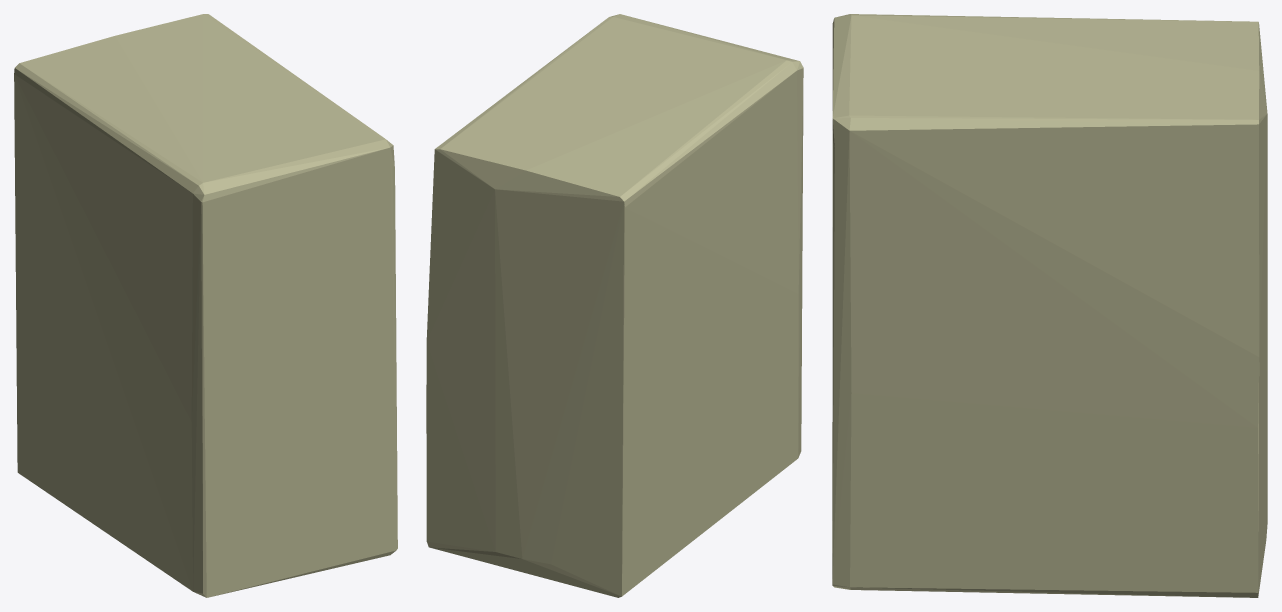
Rendered from tiltTruck_gray_a01.glb.
The picture shows the model from 3 angles, left to right: view 1: azimuth 30°, elevation 25°; view 2: azimuth 150°, elevation 25°; view 3: azimuth 270°, elevation 25°; orthographic projection. The views are drawn at different scales.
Parts seen in each view (by area): view 1: geometry_0; view 2: geometry_0; view 3: geometry_0.
Boxes of the visible parts, left/top/right/bottom form: geometry_0: left=14, top=14, right=397, bottom=597; geometry_0: left=426, top=14, right=803, bottom=597; geometry_0: left=832, top=14, right=1267, bottom=597.
Bounding box in the file's own units: 0.2429 × 0.4785 × 0.3916.
